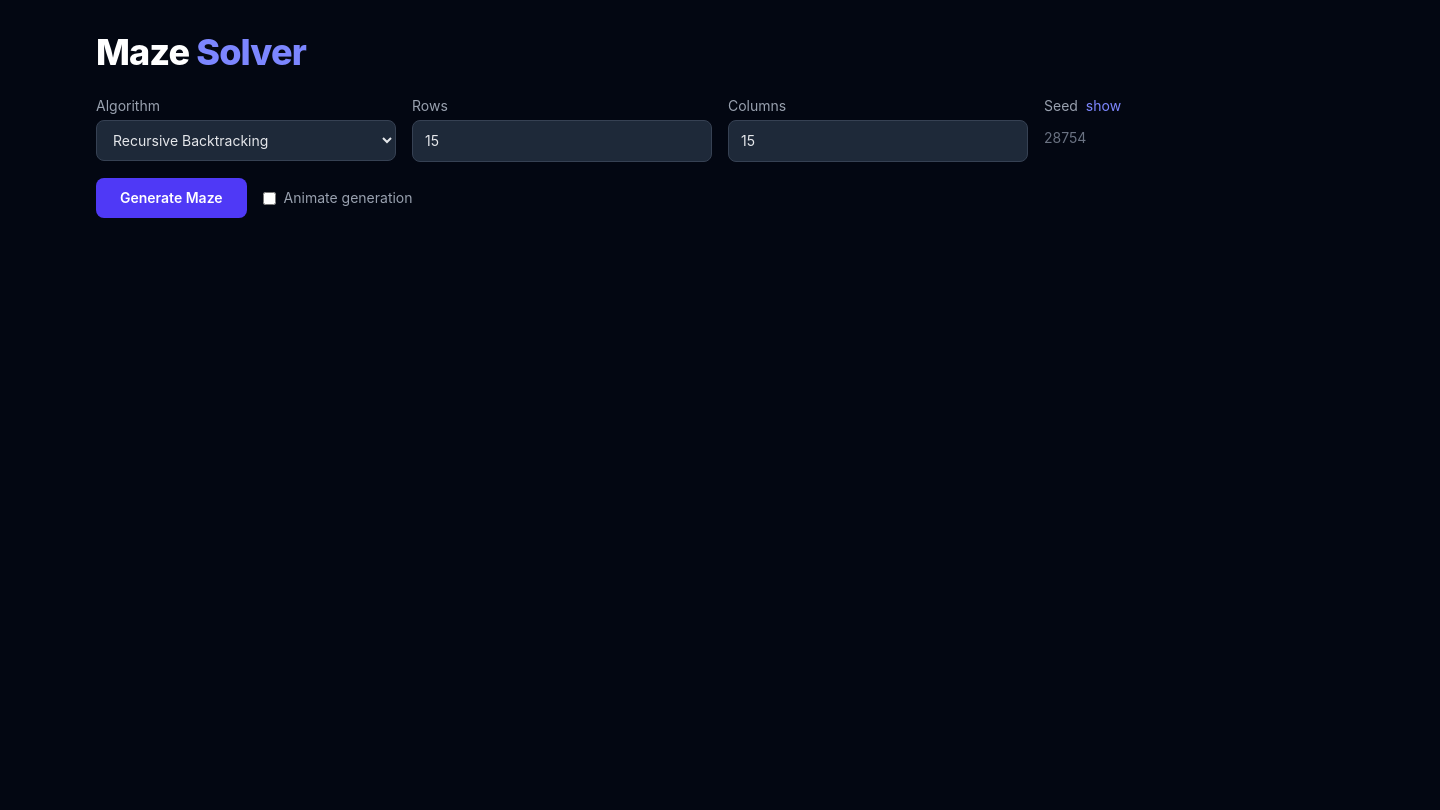
MazeSolver › solve button is enabled when maze exists and algos selected
Click the button "Generate Maze" at [171, 198], box [96,178,247,218]
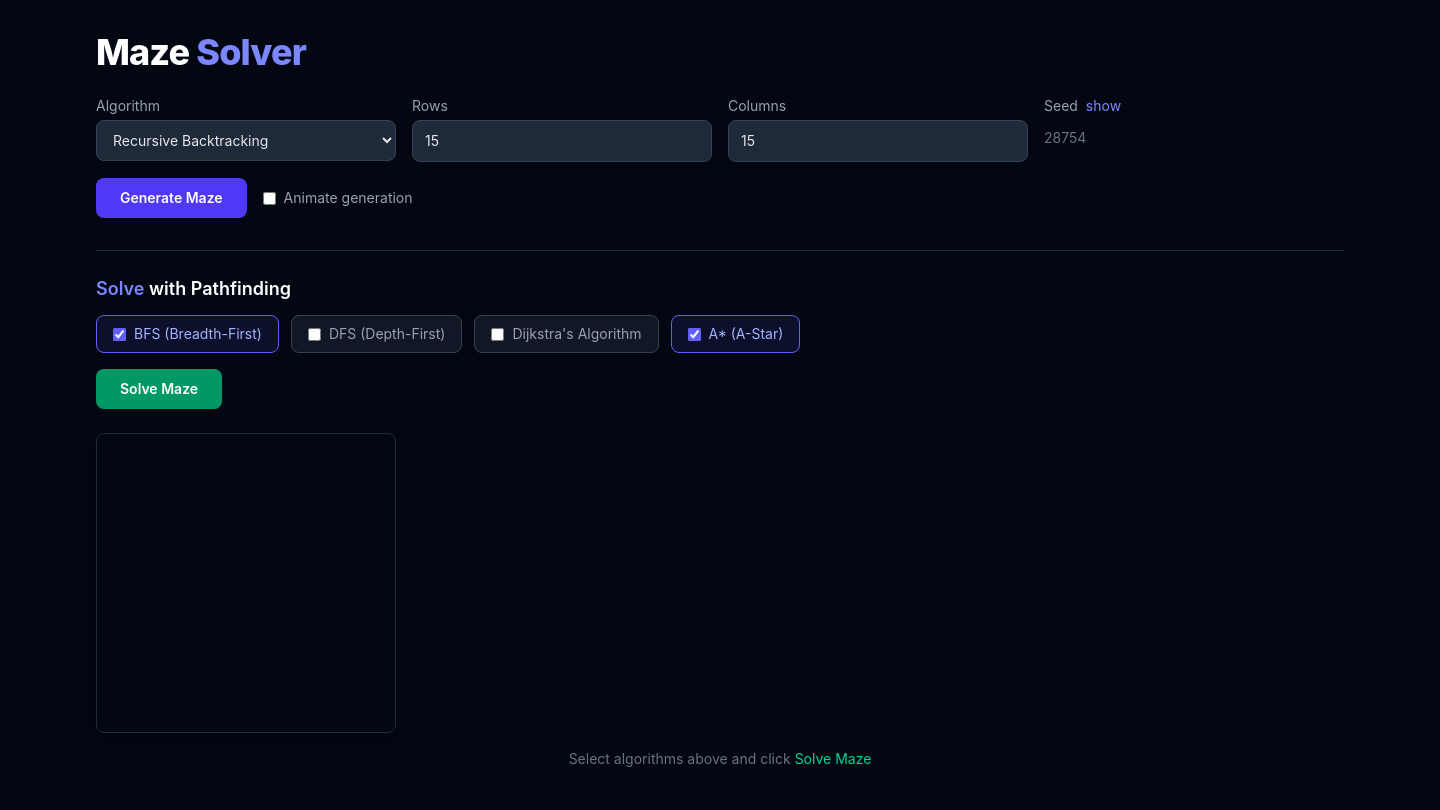
Expected: the button "Solve Maze" is enabled, [96,369,222,409]
